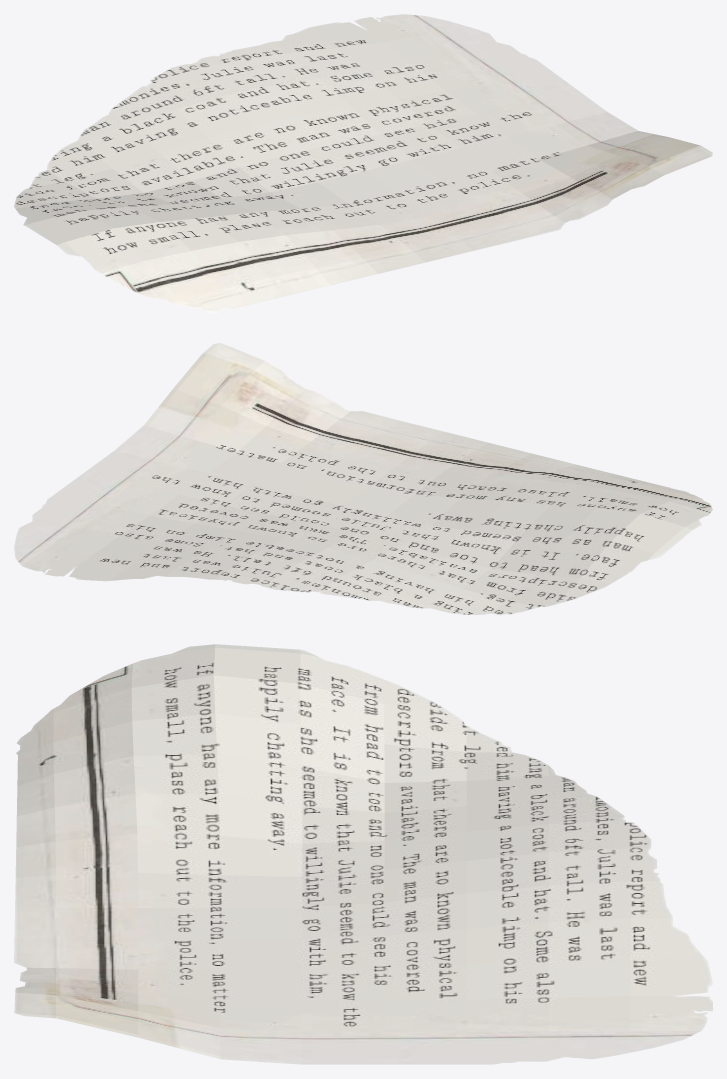
Rendered from newspaper2.fbx.
The picture shows the model from 3 angles, top to bottom: view 1: azimuth 30°, elevation 25°; view 2: azimuth 150°, elevation 25°; view 3: azimuth 270°, elevation 25°; orthographic projection. The views are drawn at different scales.
Parts seen in each view (by area): view 1: Newspaper2; view 2: Newspaper2; view 3: Newspaper2.
Boxes of the visible parts, left/top/right/bottom form: Newspaper2: left=14, top=14, right=712, bottom=313; Newspaper2: left=14, top=342, right=712, bottom=615; Newspaper2: left=14, top=644, right=712, bottom=1064.
Size of the model in its own units: 18.28 by 1.13 by 14.34.
